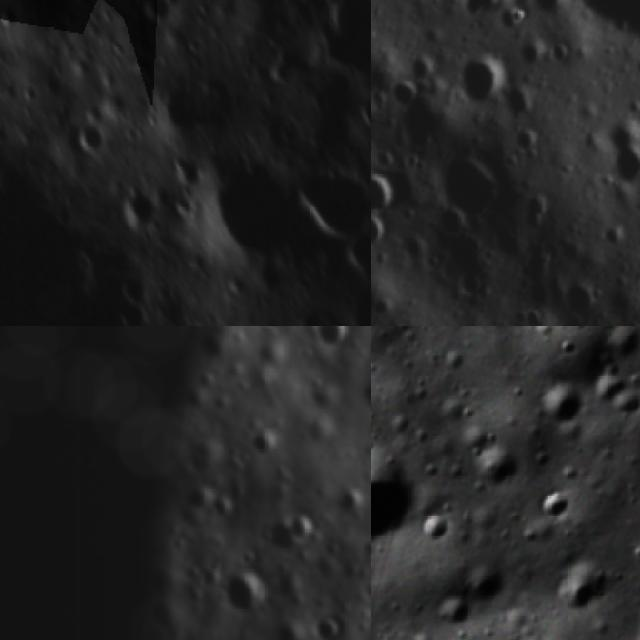crater: (204, 154, 320, 285), (371, 419, 429, 557), (425, 156, 510, 220), (145, 71, 211, 143), (450, 436, 523, 493), (450, 48, 500, 117), (553, 554, 608, 615), (528, 378, 588, 432), (117, 182, 168, 236), (220, 570, 272, 621), (322, 0, 371, 52), (541, 276, 599, 314), (528, 486, 573, 534), (337, 226, 371, 287), (72, 122, 115, 160), (432, 591, 475, 629), (287, 510, 327, 548), (263, 517, 300, 558), (247, 425, 280, 461), (421, 509, 452, 545), (455, 272, 488, 304), (334, 489, 366, 522), (316, 326, 353, 354), (134, 0, 170, 28), (312, 614, 347, 640), (371, 171, 390, 218), (450, 0, 501, 17), (552, 332, 580, 359), (269, 620, 304, 640), (371, 220, 388, 249), (371, 358, 382, 395), (362, 379, 371, 414), (363, 538, 371, 564)
